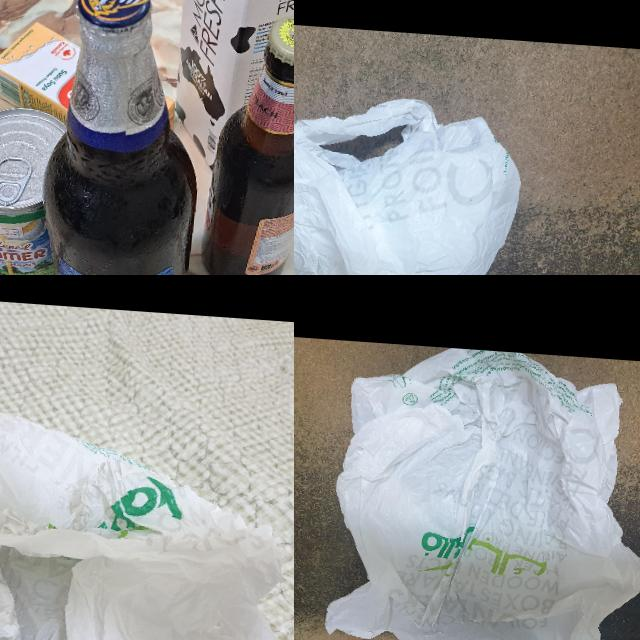aba de lata: (0, 155, 31, 207)
caixinha: (171, 0, 294, 176), (0, 16, 76, 114)
garrafa de vidro: (33, 0, 213, 275), (203, 16, 294, 275)
lata: (0, 104, 70, 275)
sacola plástica: (318, 340, 640, 640), (0, 398, 294, 640), (294, 86, 527, 275)
